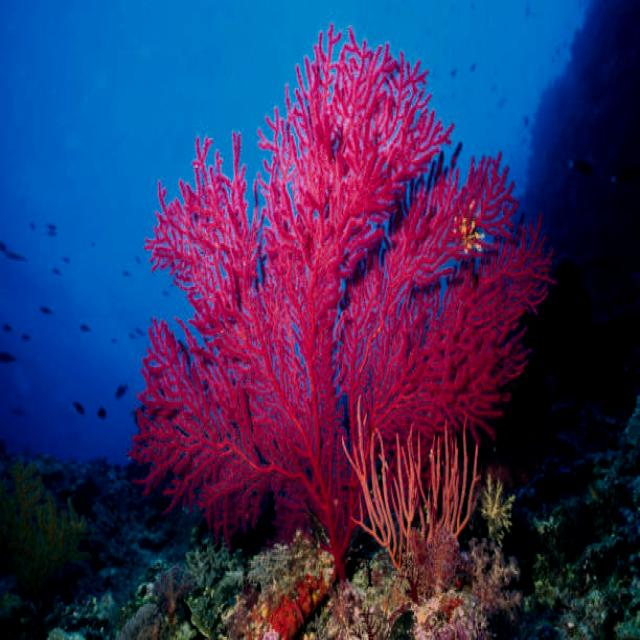Coral: (126, 22, 561, 583), (342, 395, 482, 571)
